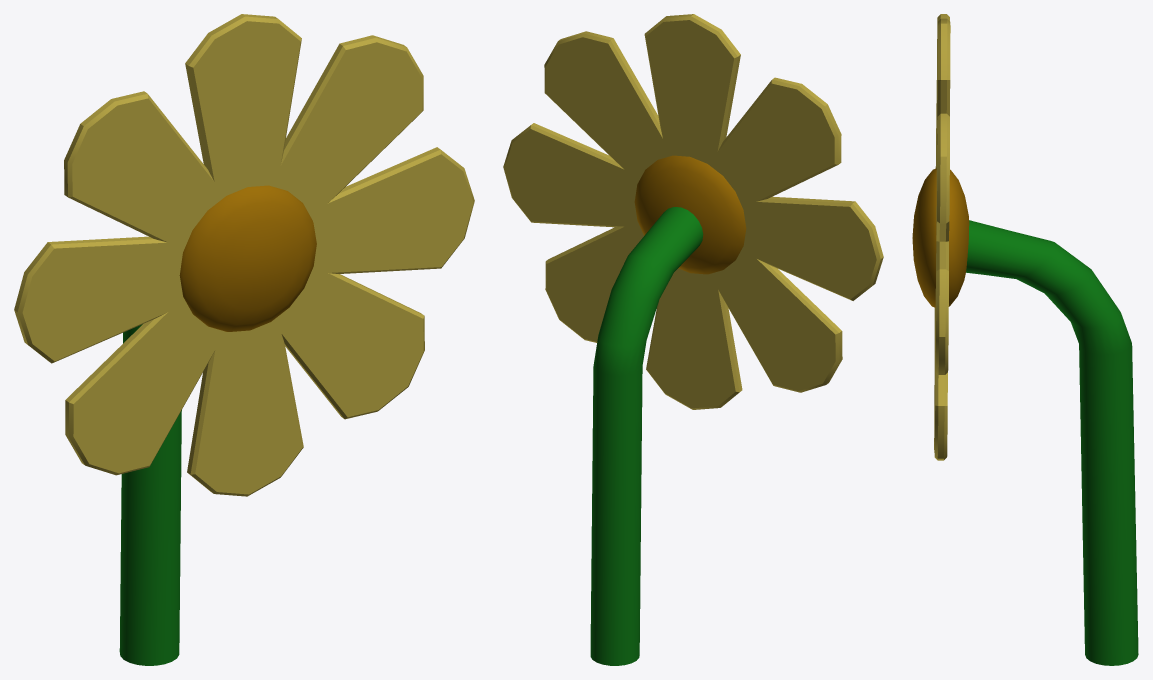
File: flower1.fbx
The picture shows the model from 3 angles, left to right: view 1: azimuth 30°, elevation 25°; view 2: azimuth 150°, elevation 25°; view 3: azimuth 270°, elevation 25°; orthographic projection. The views are drawn at different scales.
Visible parts, largest first — view 1: pCube15; view 2: pCube15; view 3: pCube15.
Boxes of the visible parts, left/top/right/bottom form: pCube15: left=14, top=14, right=474, bottom=665; pCube15: left=503, top=14, right=883, bottom=665; pCube15: left=912, top=14, right=1138, bottom=665.
Bounding box in the file's own units: 4.03 × 5.96 × 1.93.
